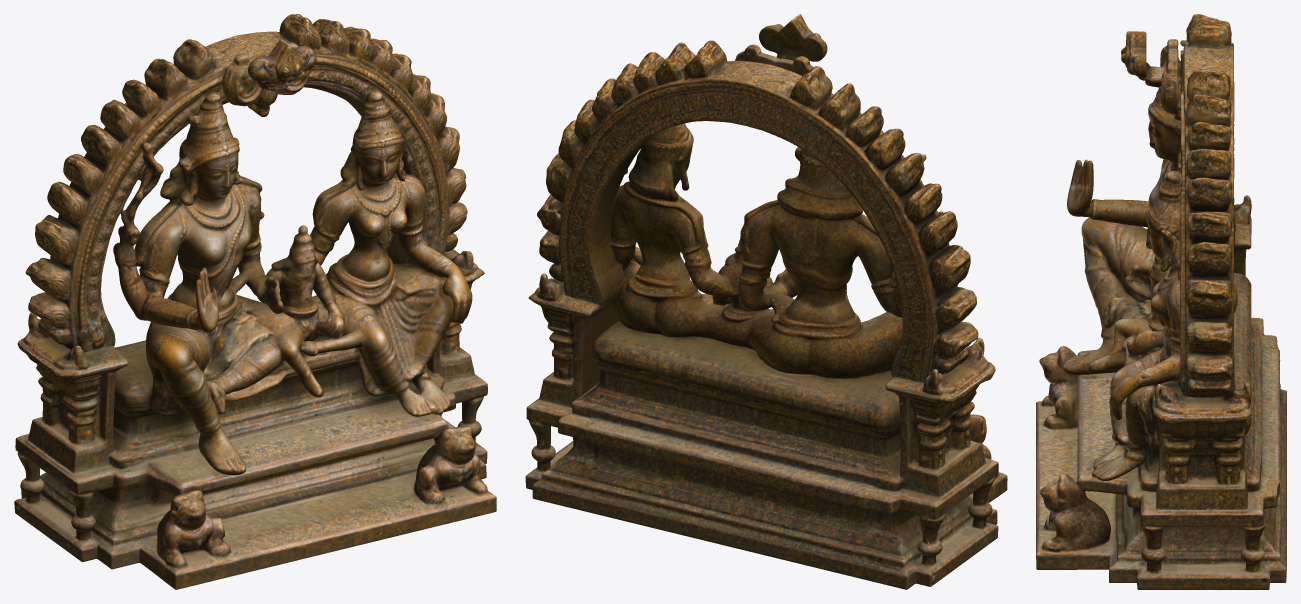
Rendered from bronze-deity-family.glb.
The picture shows the model from 3 angles, left to right: view 1: azimuth 30°, elevation 25°; view 2: azimuth 150°, elevation 25°; view 3: azimuth 270°, elevation 25°; orthographic projection. The views are drawn at different scales.
Parts seen in each view (by area): view 1: tripo_node_e317f5a6-6dc1-4b9a-8c4d-50b5e7c18bda; view 2: tripo_node_e317f5a6-6dc1-4b9a-8c4d-50b5e7c18bda; view 3: tripo_node_e317f5a6-6dc1-4b9a-8c4d-50b5e7c18bda.
Part boxes in pixels (x1,y1,x2,y2): tripo_node_e317f5a6-6dc1-4b9a-8c4d-50b5e7c18bda: (14, 14, 496, 589); tripo_node_e317f5a6-6dc1-4b9a-8c4d-50b5e7c18bda: (525, 14, 1007, 589); tripo_node_e317f5a6-6dc1-4b9a-8c4d-50b5e7c18bda: (1036, 14, 1286, 589).
Bounding box in the file's own units: 0.9499 × 1 × 0.4914.
1 material, 1 textured.
